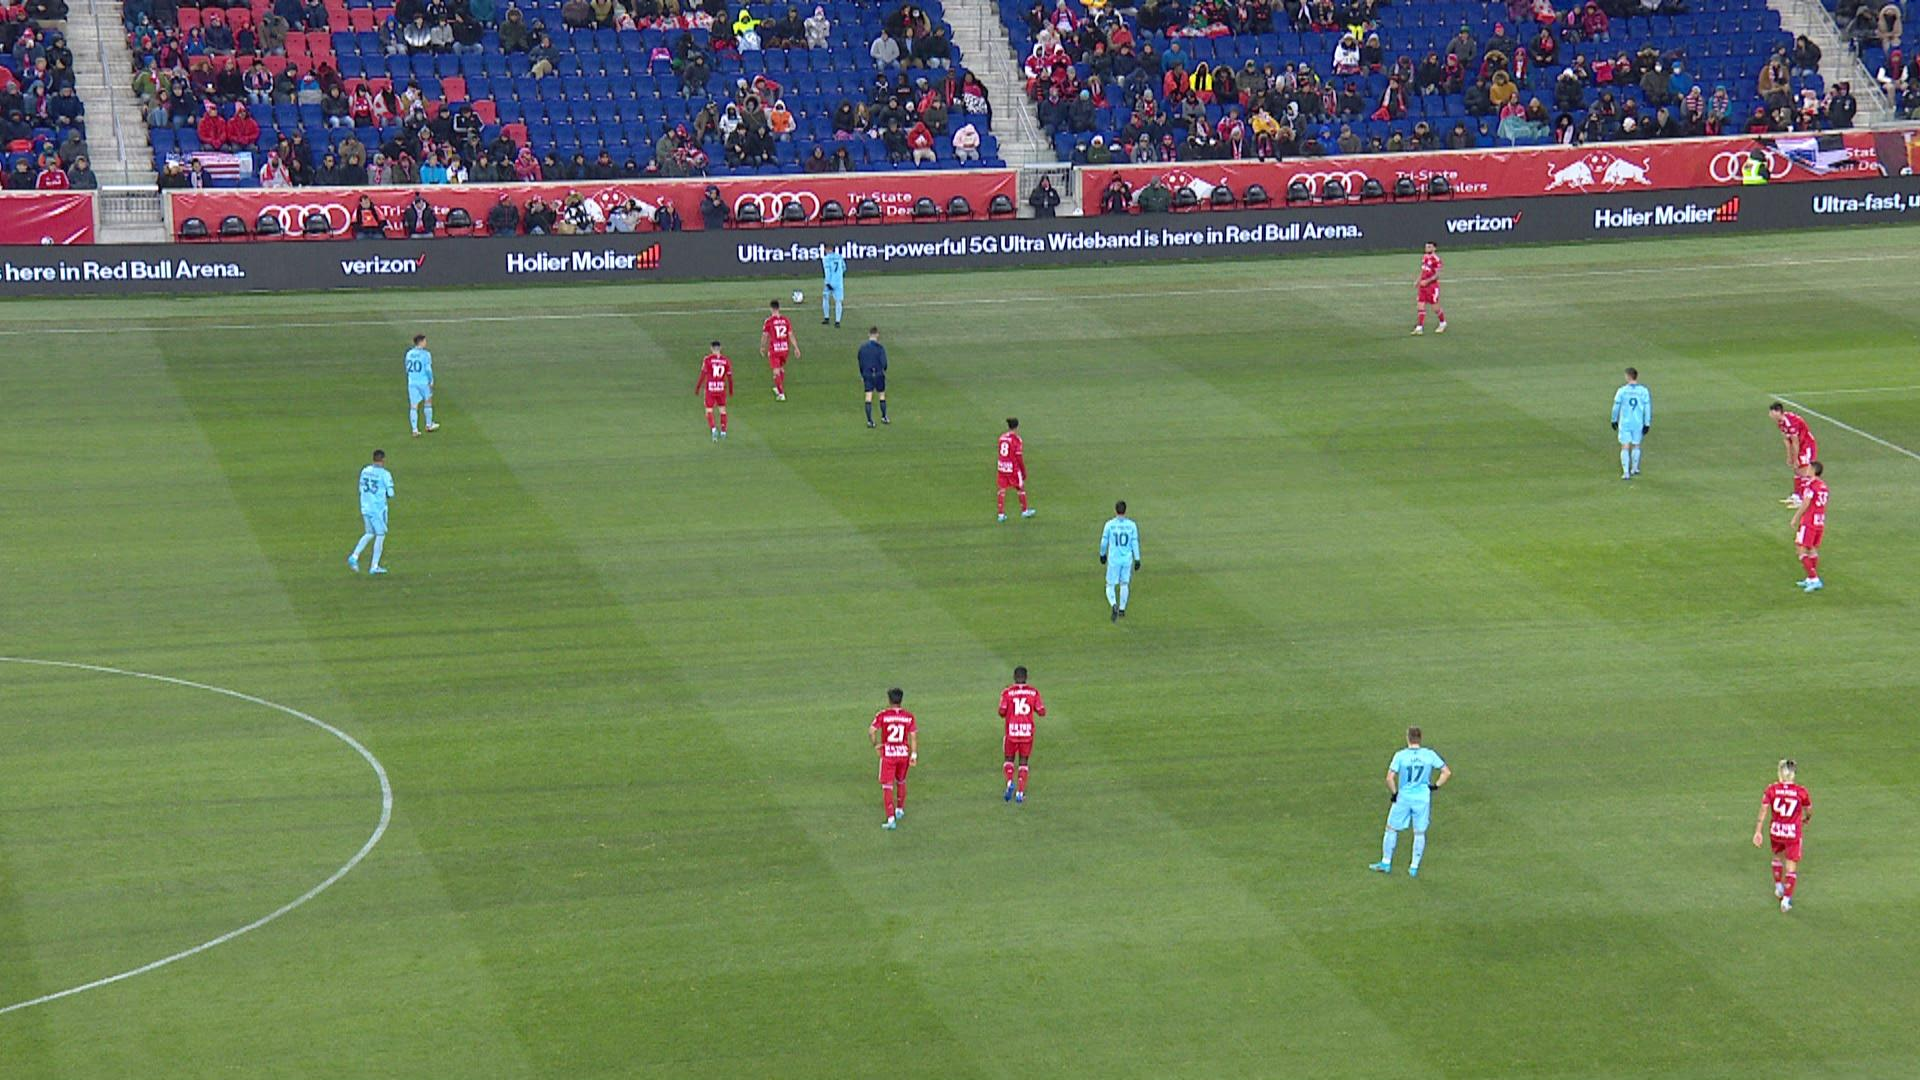football: (790, 289, 806, 305)
